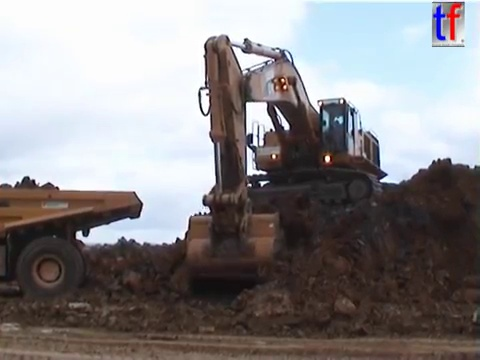excavator: (182, 31, 393, 291)
truck: (1, 183, 148, 308)
